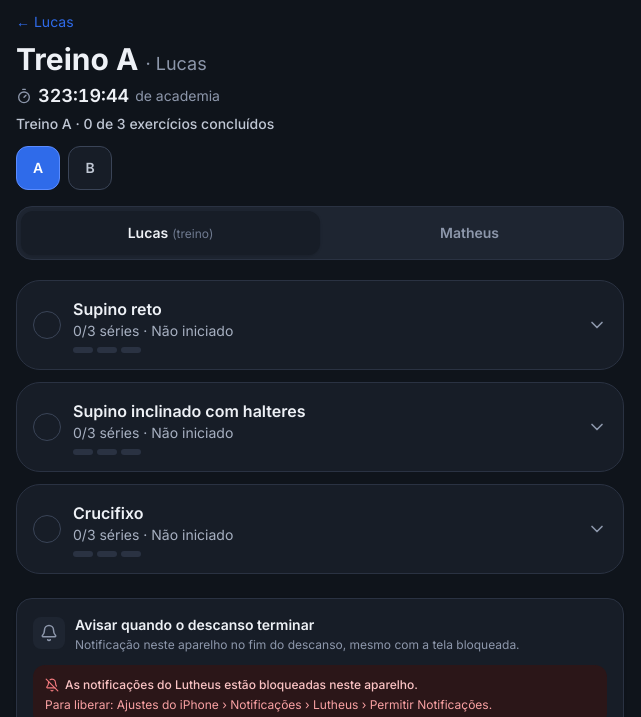
editar o nome do exercício na ficha › campo preenchido com o nome atual; salvar atualiza a interface na hora e persiste pelo comando
Expected: the text "Treino A · 0 de 3 exercícios concluídos" is shown, [16, 115, 274, 132]
Click the button "Supino inclinado com halteres 0/3 séries · Não iniciado" at (189, 411), box [17, 383, 623, 471]
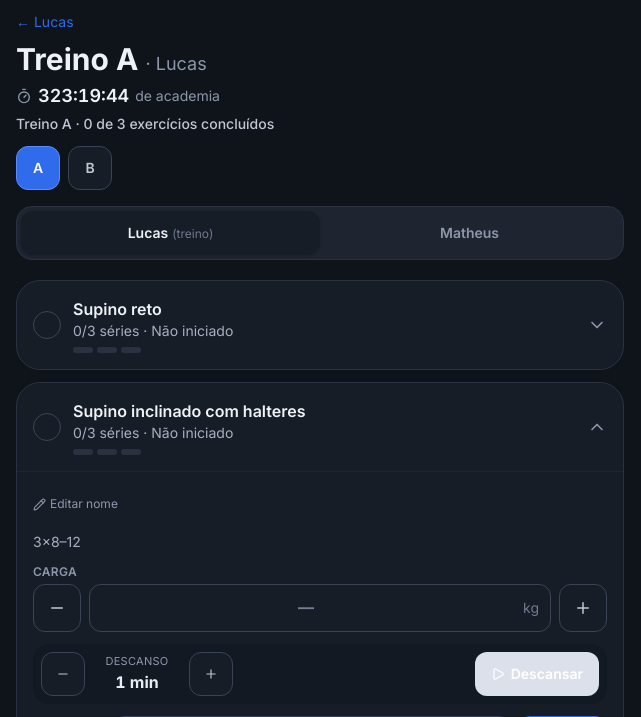
Click the button with aria-label "Editar nome de Supino inclinado com halteres" at (75, 504), box [33, 484, 118, 524]
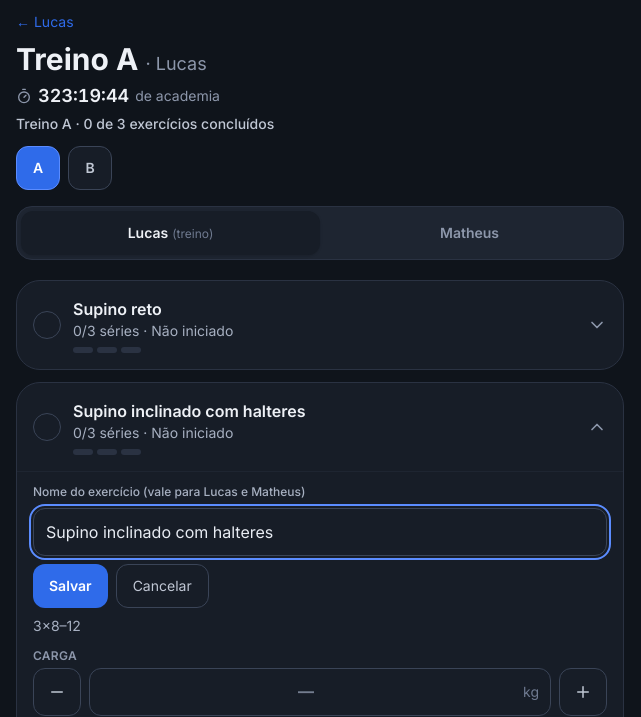
Expected: the field labelled "Nome do exercício (vale para Lucas e Matheus)" holds "Supino inclinado com halteres"
Replace the text in the field labelled "Nome do exercício (vale para Lucas e Matheus)" with "  Supino inclinado " at (320, 532), box [33, 508, 607, 556]
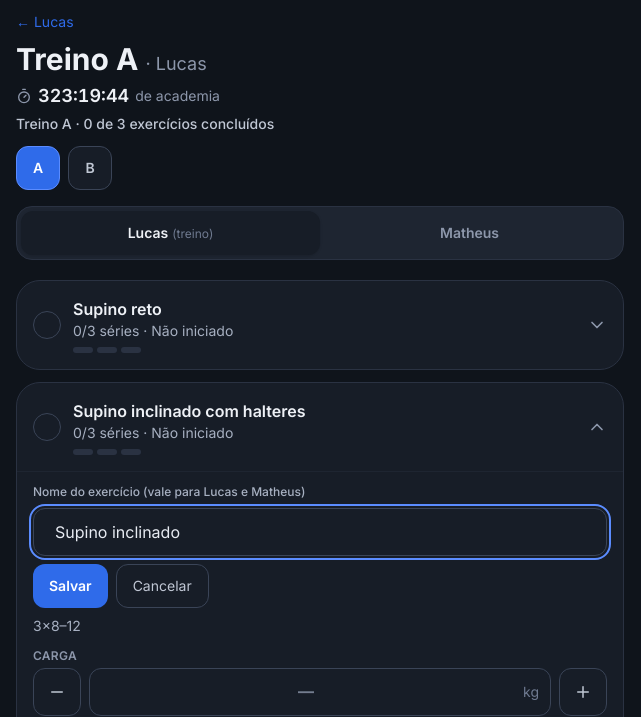
Click the button "Salvar" at (70, 586), box [33, 564, 108, 608]
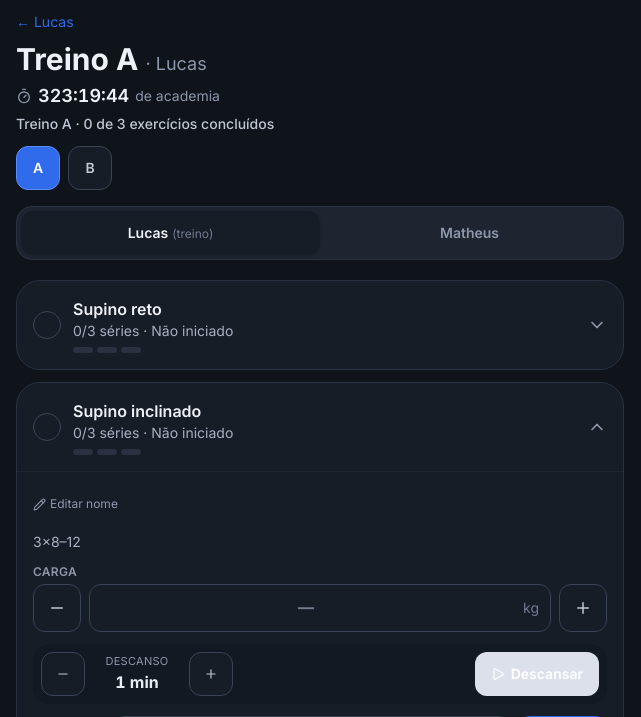
Expected: the text "Supino inclinado" is shown, [73, 401, 201, 421]
Expected: the button "Supino inclinado com halteres" is gone
